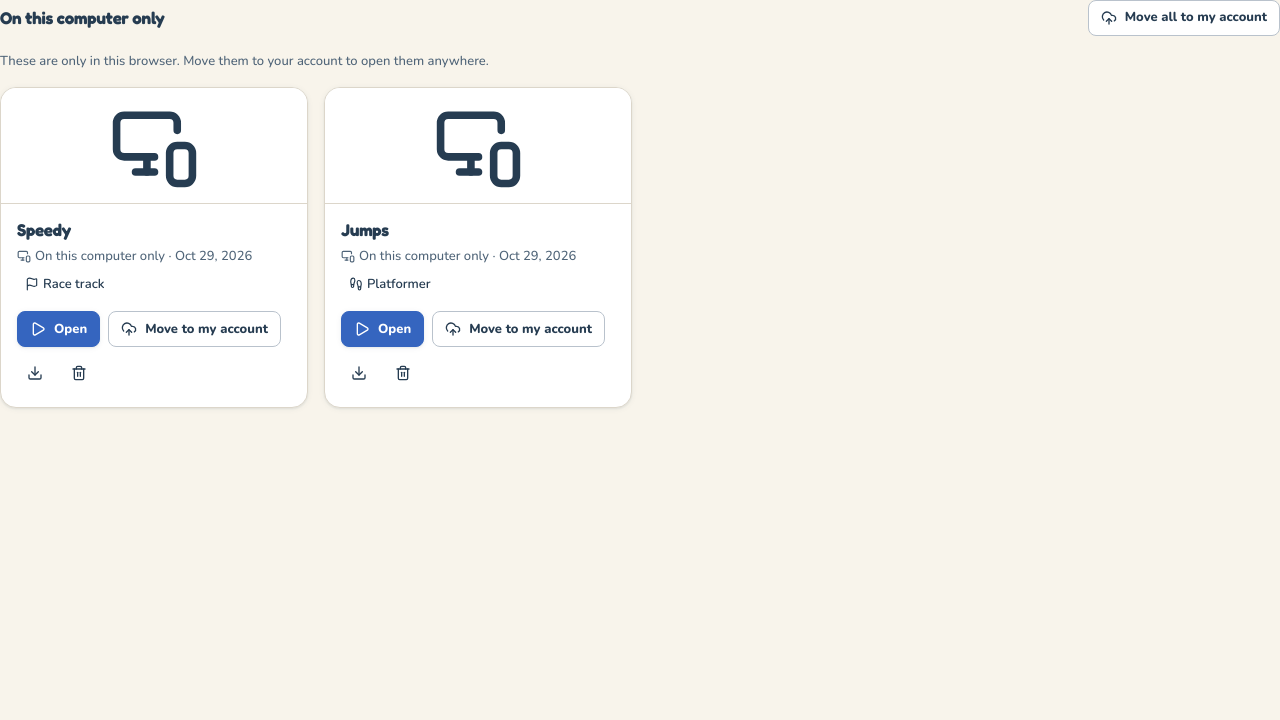
moving everything asks first, listing each project’s kind and age, and moves only the ticked ones
Click the button "Move all to my account": (1184, 18) 1088,0 -> 1279,36
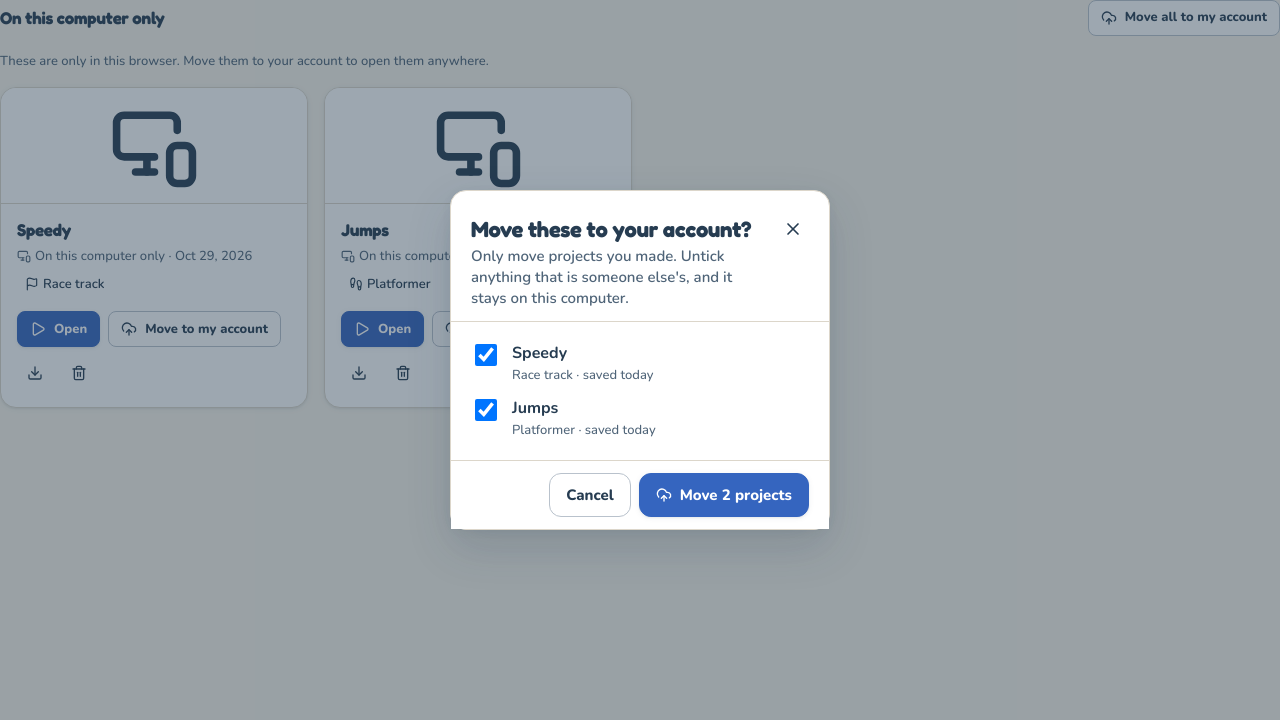
Result: the text "Only move projects you made" is shown at 471,246 -> 732,308
Result: the checkbox labelled "Jumps Platformer · saved today" is checked at 475,399 -> 497,421
Result: the checkbox labelled "Speedy Race track · saved today" is checked
Click the checkbox labelled "Speedy Race track · saved today": (486, 355) 475,344 -> 497,366
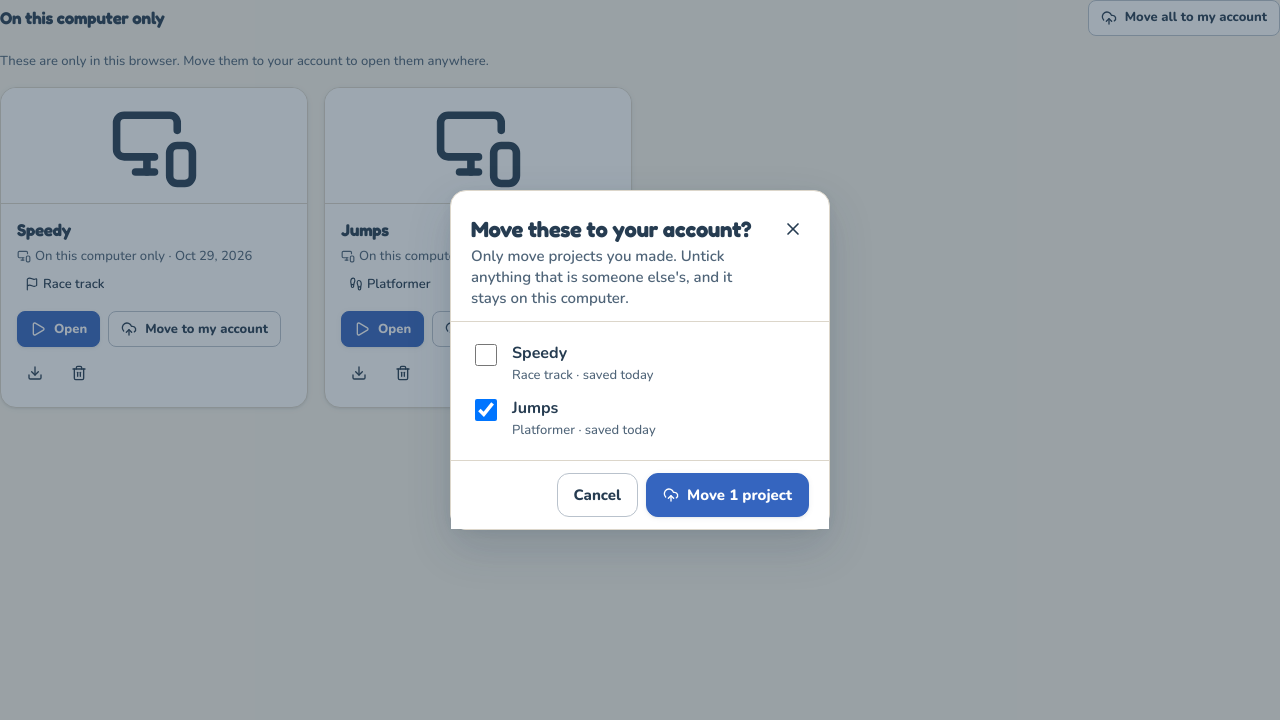
Click the button "Move 1 project": (728, 495) 646,473 -> 809,517
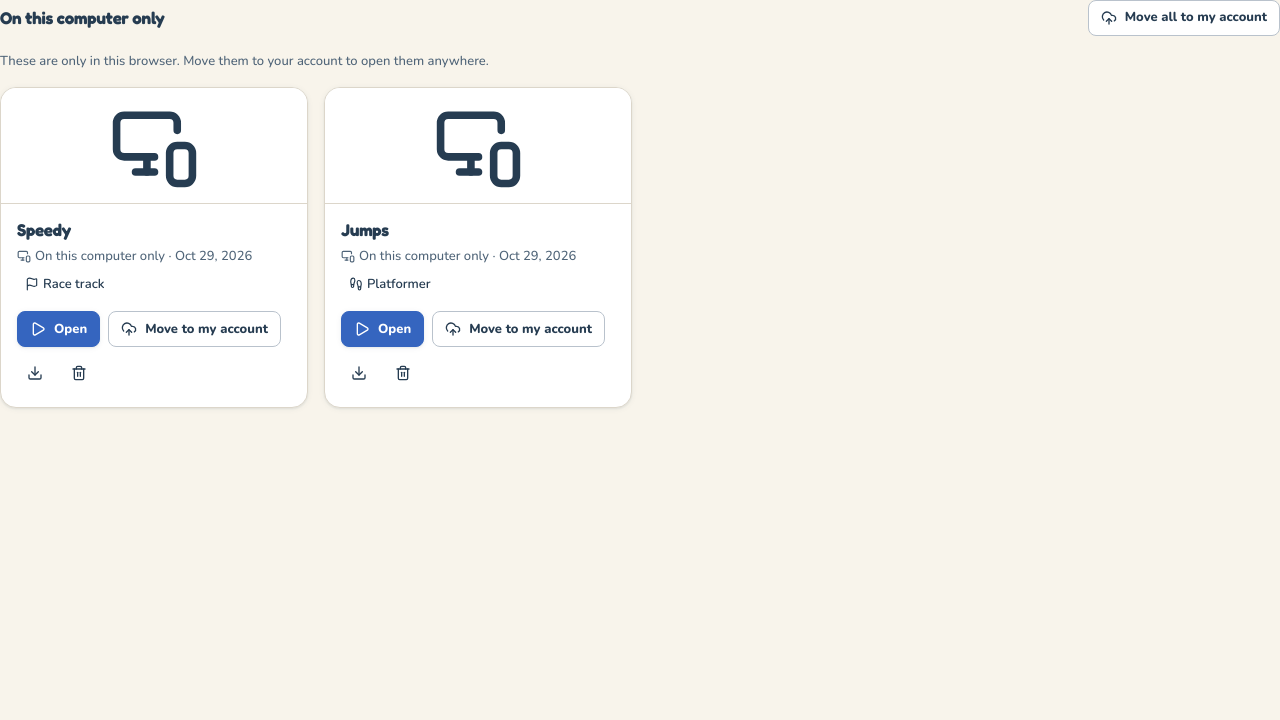
Result: the dialog is gone
